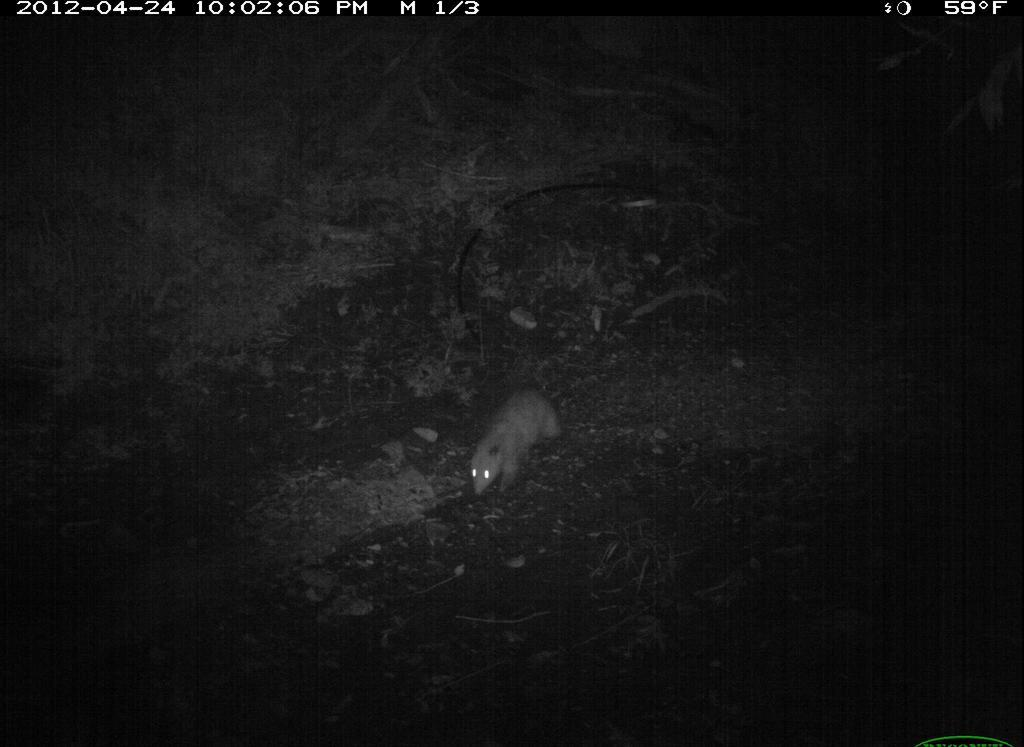opossum: (459, 373, 569, 509)
